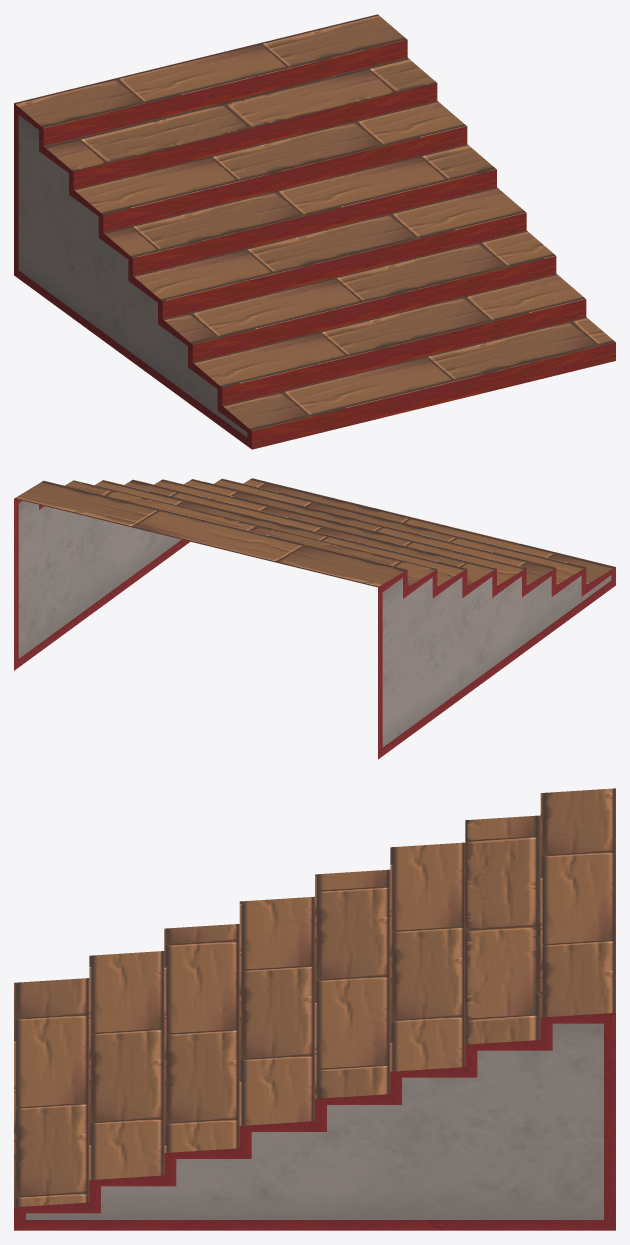
The model's file is lunar-year__EntranceStairs.glb.
The picture shows the model from 3 angles, top to bottom: view 1: azimuth 30°, elevation 25°; view 2: azimuth 150°, elevation 25°; view 3: azimuth 270°, elevation 25°; orthographic projection. The views are drawn at different scales.
Parts seen in each view (by area): view 1: EntranceStairs; view 2: EntranceStairs; view 3: EntranceStairs.
Part boxes in pixels (bbox=[...]): EntranceStairs: bbox=[14, 14, 615, 449]; EntranceStairs: bbox=[14, 478, 615, 759]; EntranceStairs: bbox=[14, 788, 615, 1230].
Bounding box in the file's own units: 4.03 × 1.82 × 4.57.
2 materials, 2 textured.
